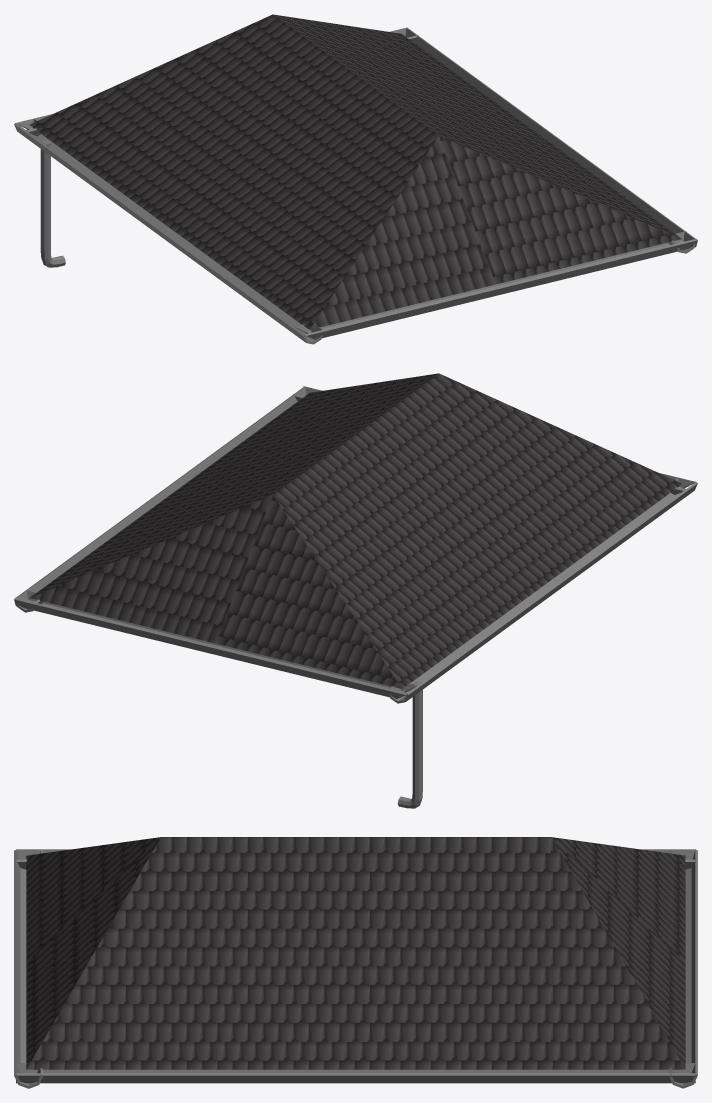
File: OutsideRoof.fbx
3 views of the same model, one above another, from view 1: azimuth 30°, elevation 25°; view 2: azimuth 150°, elevation 25°; view 3: azimuth 270°, elevation 25° (orthographic). The views are drawn at different scales.
Visible parts, largest first — view 1: RoofTiled, Goot; view 2: RoofTiled, Goot; view 3: RoofTiled, Goot.
Part boxes in pixels (bbox=[...]): RoofTiled: bbox=[29, 14, 681, 329]; Goot: bbox=[14, 27, 697, 344]; RoofTiled: bbox=[29, 373, 682, 688]; Goot: bbox=[14, 386, 697, 808]; RoofTiled: bbox=[26, 837, 685, 1069]; Goot: bbox=[14, 849, 697, 1088].
Bounding box in the file's own units: 1736 × 1010 × 2219.
